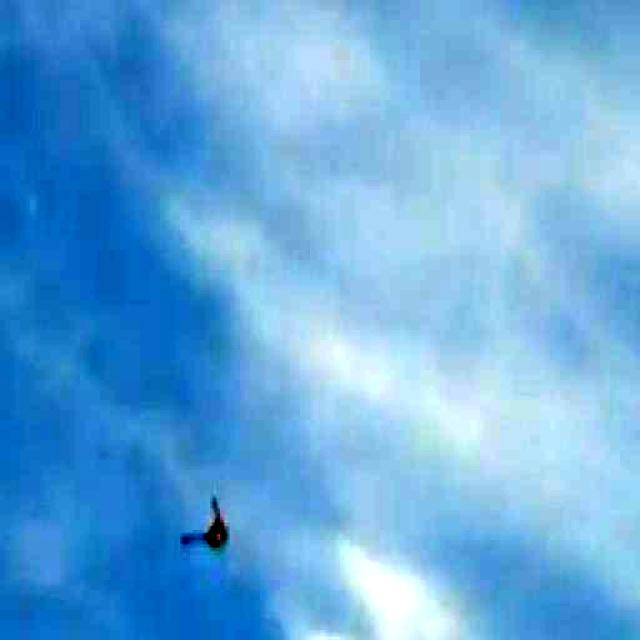drone: (180, 482, 232, 558)
